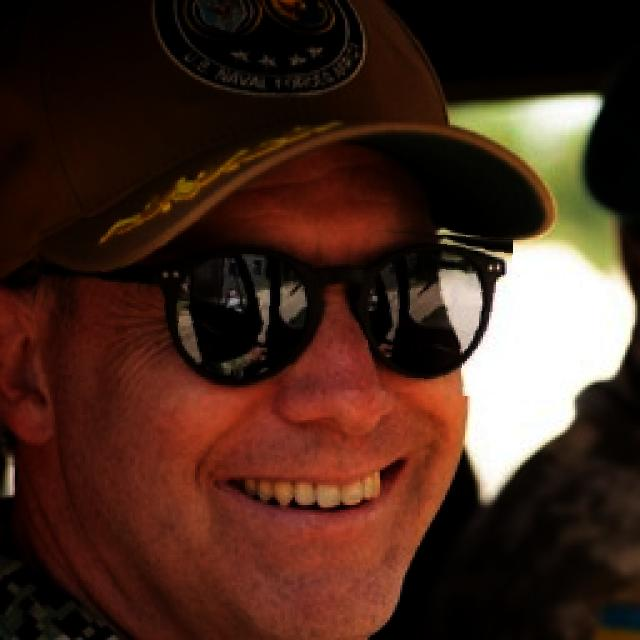glasses: (34, 220, 512, 391)
